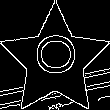O_W: (31, 39, 79, 82)
